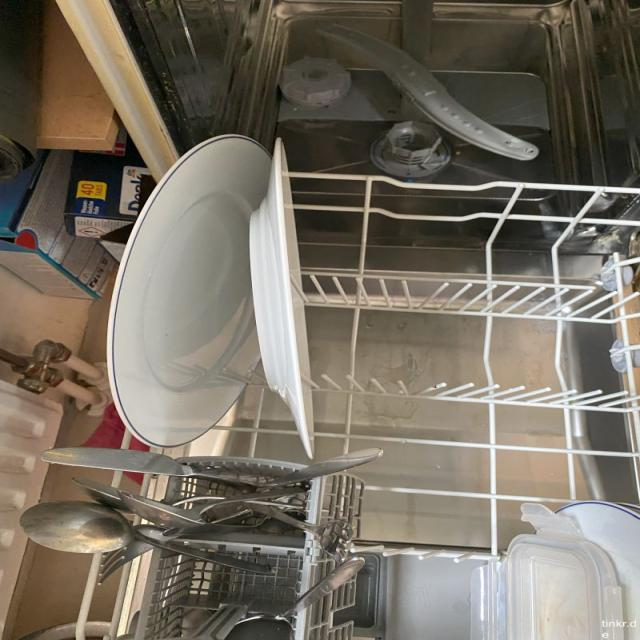clutery_bin: (116, 448, 333, 638)
empty_slot: (363, 178, 640, 533)
